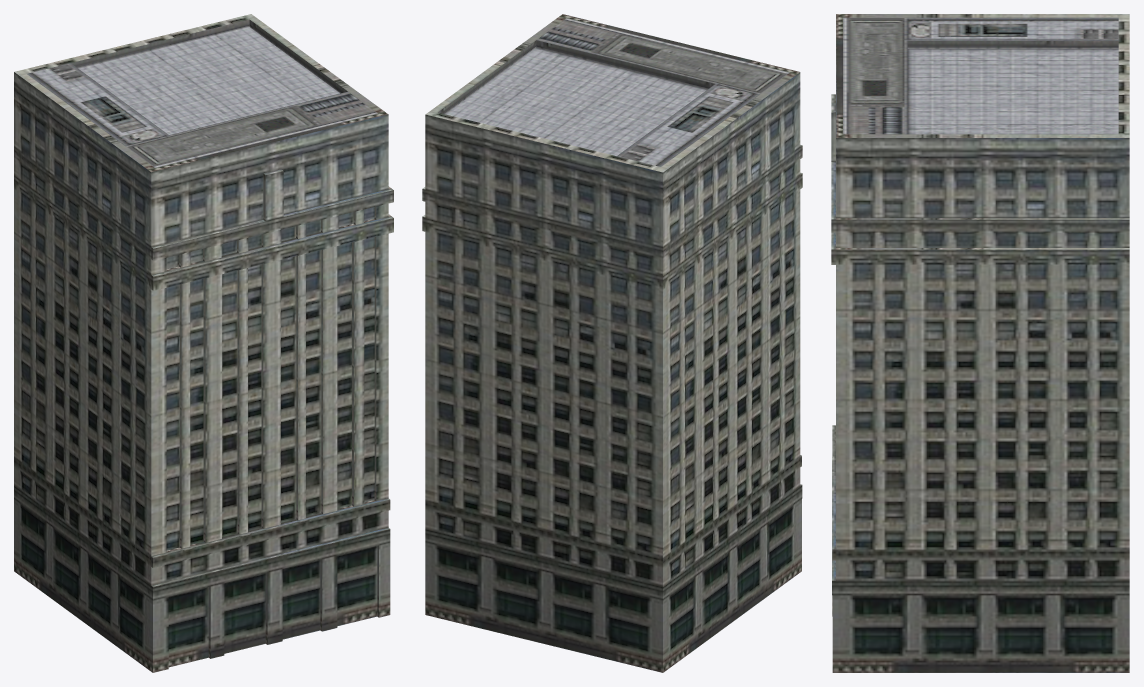
3 views of the same model, side by side, from view 1: azimuth 30°, elevation 25°; view 2: azimuth 150°, elevation 25°; view 3: azimuth 270°, elevation 25° (orthographic). The views are drawn at different scales.
Visible parts, largest first — view 1: SketchUp (×2); view 2: SketchUp (×2); view 3: SketchUp (×2).
Boxes of the visible parts, x1,y1,x2,y2 form: SketchUp (×2): (14,14,393,672); SketchUp (×2): (422,14,802,672); SketchUp (×2): (831,14,1129,672).
Size of the model in its own units: 362 by 363 by 718.
Materials: 3 (2 with a texture image).
